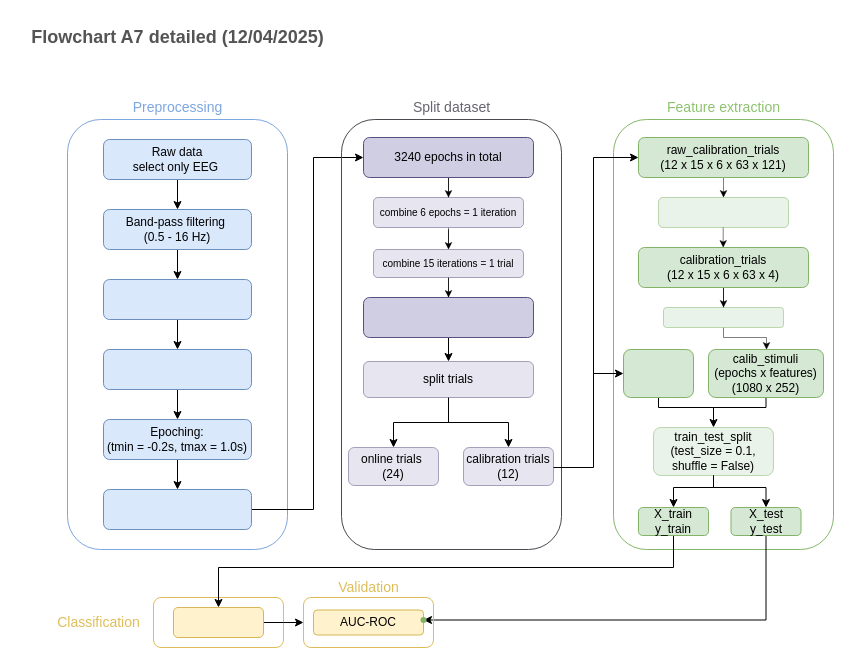
Image size: 851x669. Some labels were removed from this diagram. Each missing label, with the box of its shape:
36 trials in total: (362, 296, 534, 338)
Average over time intervals (0.1, 0.2, 0.3, 0.4, 0.5 s): (658, 196, 788, 228)
Baseline correction: None: (102, 488, 252, 530)
calib_labels (1080 x 1): (622, 348, 694, 398)
Downsampling (1000 --> 100 Hz): (102, 278, 252, 320)
LDA.fit(): (172, 606, 264, 638)
Outlier rejection: None: (102, 348, 252, 390)
Reshape for LDA: (662, 306, 784, 328)
